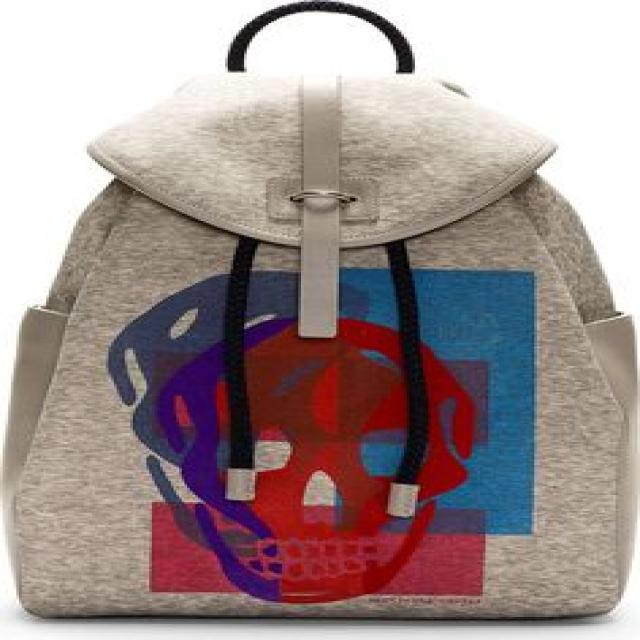backpack: (1, 1, 638, 621)
